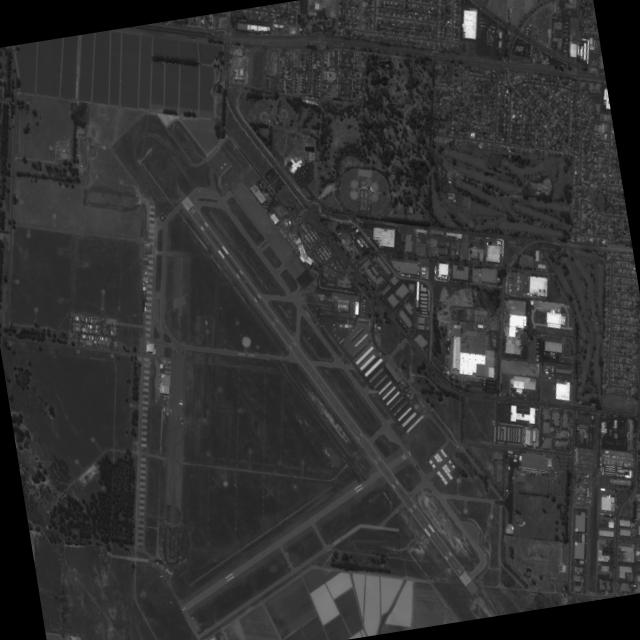plane: (159, 369, 168, 381), (178, 398, 185, 407), (219, 163, 225, 170), (159, 380, 164, 386), (332, 321, 337, 327), (223, 160, 228, 166), (243, 278, 247, 283), (169, 407, 173, 412), (338, 339, 342, 344), (197, 187, 201, 191), (337, 335, 341, 339), (175, 415, 178, 420), (334, 332, 337, 337), (165, 377, 169, 380), (340, 338, 343, 342), (342, 336, 345, 340), (332, 328, 335, 331), (333, 326, 336, 329), (351, 319, 353, 322), (347, 318, 349, 321), (347, 321, 349, 323)
